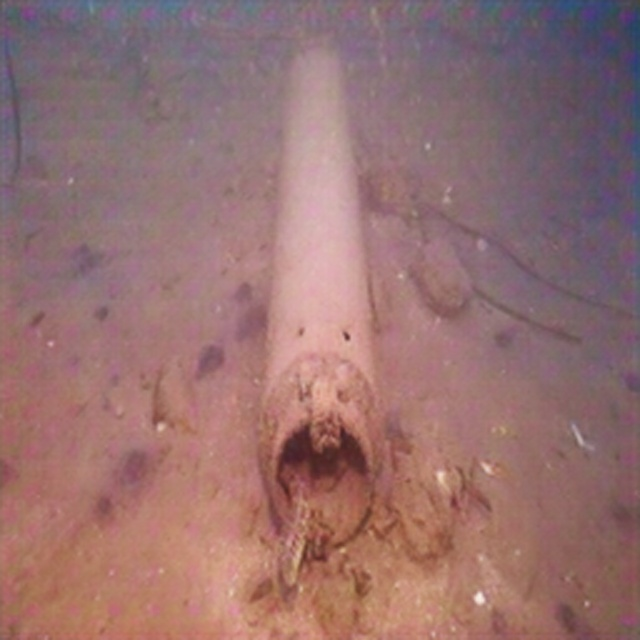mine: (256, 45, 384, 551)
